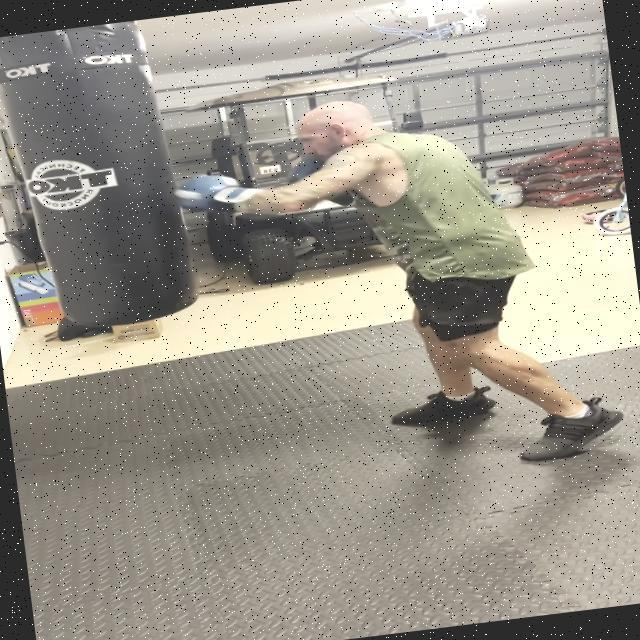bag: (12, 18, 188, 337)
cross: (160, 52, 535, 254)
